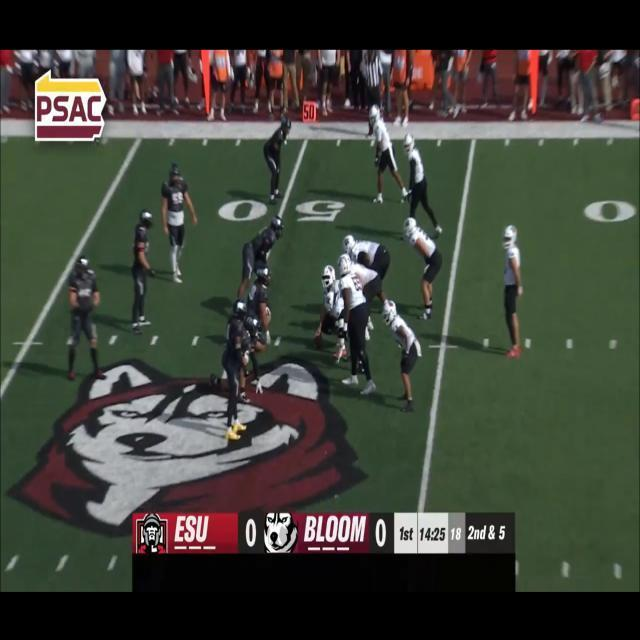football: (310, 328, 328, 354)
